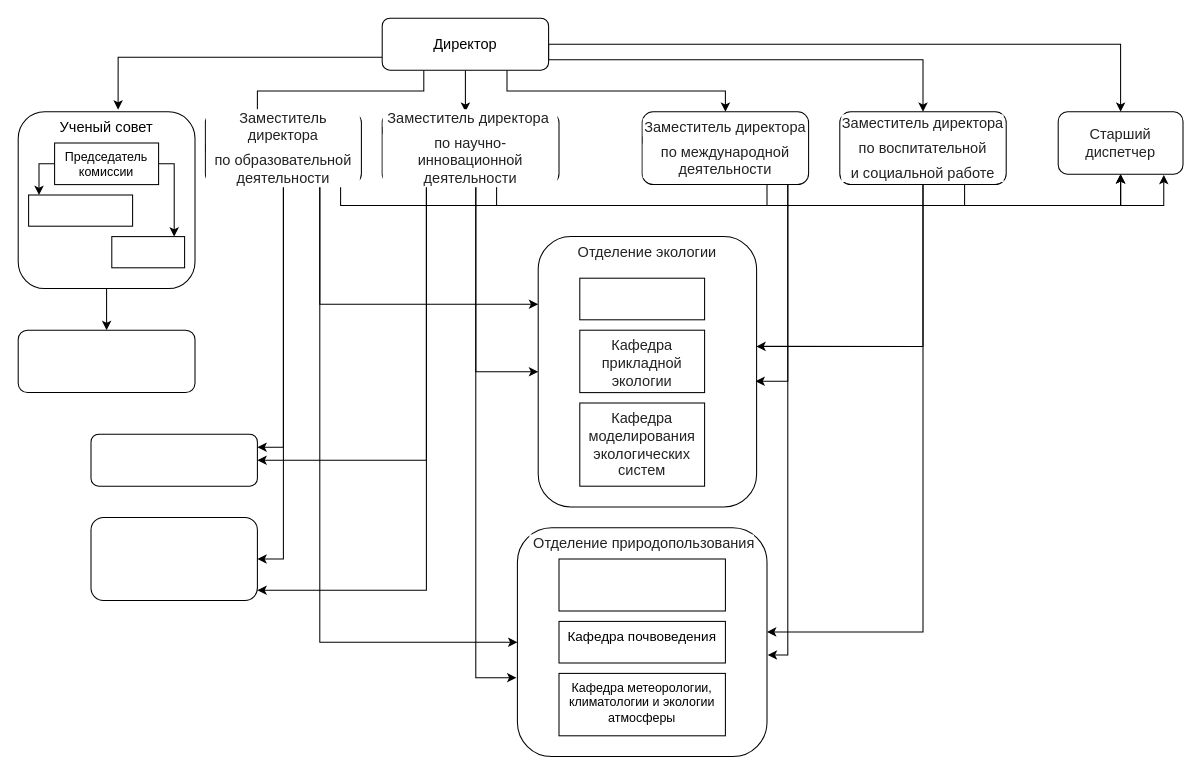
This 1201x775 diagram has some shape labels left out. Each missing label, with the centre of its shape:
Кафедра ландшафтной экологии: (x=641, y=584)
Кафедра общей экологии: (x=642, y=298)
Метеорологическая обсерватория: (x=173, y=459)
Секретарь: (x=148, y=252)
Специалист по учебно-методической работе: (x=106, y=361)
Учебный центр Дополнительных образовательных услуг «Экология»: (x=173, y=558)
Члены комиссии: (x=80, y=210)
